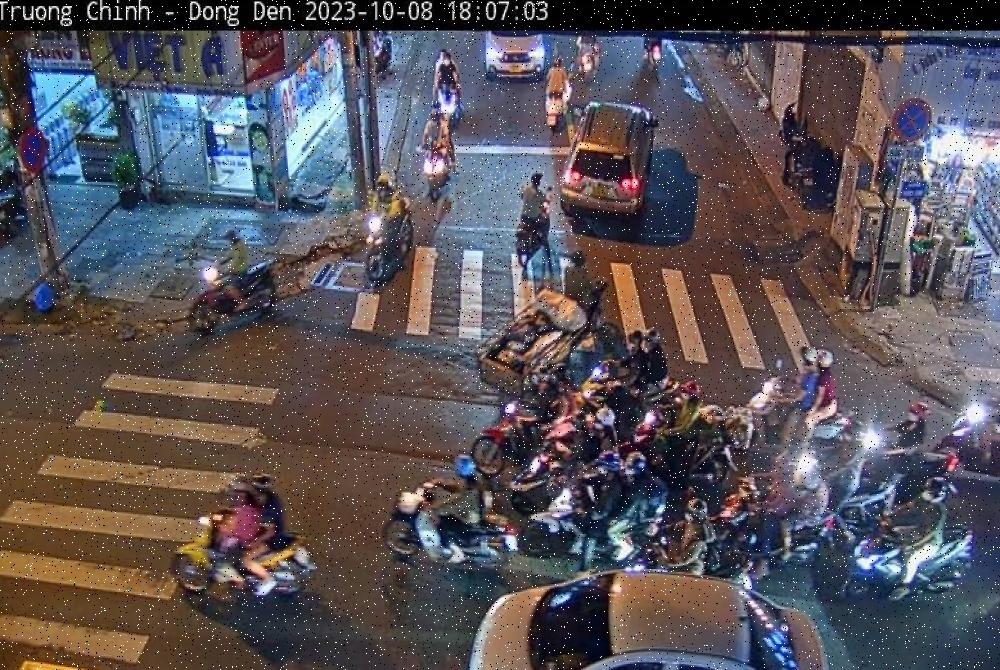car: (470, 566, 833, 670), (561, 101, 657, 219), (480, 33, 543, 80)
